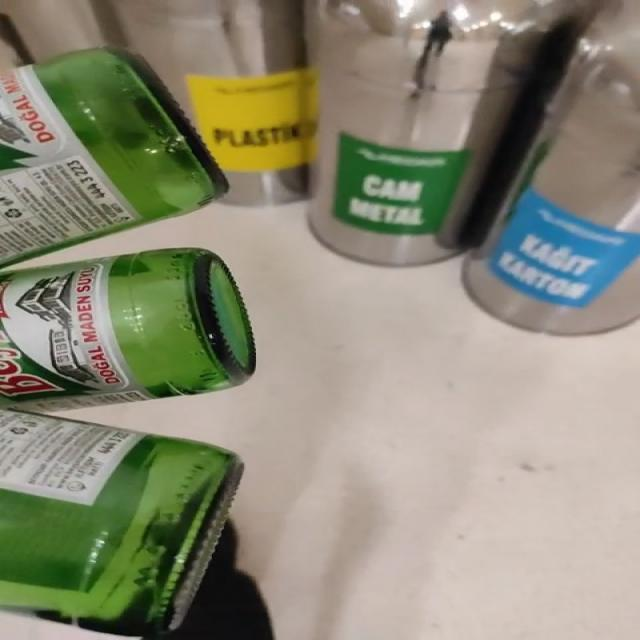Glass: (0, 248, 255, 637), (0, 47, 225, 264)
